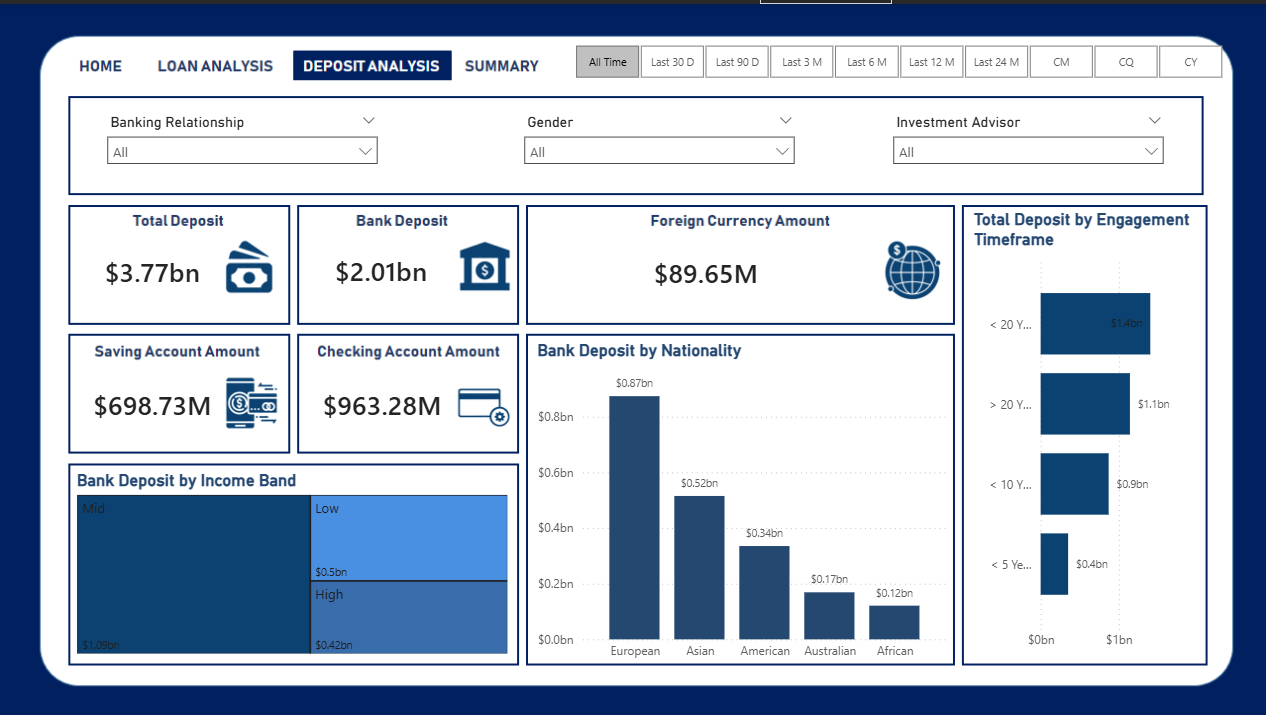

The page's visual inventory and layout, read from the dashboard file:
{"tool":"powerbi","page":{"name":"Deposit Analysis","canvas":[1280,720],"ordinal":2},"visuals":[{"type":"card","fields":{"Values":["DAX Measures.Total Deposit"]},"box":[72.7,226.3,161.8,90.3],"z":0},{"type":"card","fields":{"Values":["DAX Measures.Bank Deposit"]},"box":[299,226.3,172.4,89.1],"z":1000},{"type":"card","fields":{"Values":["DAX Measures.Savings Account"]},"box":[72.7,360,161.8,89.1],"z":2000},{"type":"card","fields":{"Values":["DAX Measures.Checking Accounts"]},"box":[300.2,360,171.2,89.1],"z":3000},{"type":"slicer","fields":{"Values":["Banking Relationship.Banking Relationship"]},"box":[98.5,105.2,292.9,75.7],"z":4000},{"type":"slicer","fields":{"Values":["Gender.Gender"]},"box":[518.9,105.2,292.9,75.7],"z":5000},{"type":"slicer","fields":{"Values":["Investment Advisor.Investment Advisor"]},"box":[891.3,105.2,292.9,75.7],"z":6000},{"type":"card","fields":{"Values":["DAX Measures.Foreign Currency Account"]},"box":[537.1,227.5,349.4,89.1],"z":7000},{"type":"treemap","fields":{"Group":["Clients - Banking.Income Band"],"Values":["DAX Measures.Bank Deposit"]},"box":[72.7,470.2,444.4,190],"z":8000},{"type":"columnChart","fields":{"Category":["Clients - Banking.Nationality"],"Y":["DAX Measures.Bank Deposit"]},"box":[537.1,338.9,423.3,331.9],"z":9000},{"type":"clusteredBarChart","fields":{"Category":["Clients - Banking.Engagement Timeframe"],"Y":["DAX Measures.Total Deposit"]},"box":[978,207.6,234.5,452.6],"z":10000},{"type":"slicer","fields":{"Values":["Period.Name"]},"box":[555.2,34.6,702.1,46.6],"z":11000},{"type":"actionButton","box":[72.8,44.2,58.5,31],"z":12000},{"type":"actionButton","box":[160,44.2,119.4,31],"z":13000},{"type":"actionButton","box":[471.6,44.2,83.6,31],"z":14000}]}

Visuals, with their boxes in screenshot pixels (x1, y1, x2, y2), scaled from the page's 1280x720 canvas onto the 1266x715 screenshot:
card - DAX Measures.Total Deposit: box(72, 225, 232, 314)
card - DAX Measures.Bank Deposit: box(296, 225, 466, 313)
card - DAX Measures.Savings Account: box(72, 358, 232, 446)
card - DAX Measures.Checking Accounts: box(297, 358, 466, 446)
slicer - Banking Relationship.Banking Relationship: box(97, 104, 387, 180)
slicer - Gender.Gender: box(513, 104, 803, 180)
slicer - Investment Advisor.Investment Advisor: box(882, 104, 1171, 180)
card - DAX Measures.Foreign Currency Account: box(531, 226, 877, 314)
treemap - Clients - Banking.Income Band x DAX Measures.Bank Deposit: box(72, 467, 511, 656)
columnChart - Clients - Banking.Nationality x DAX Measures.Bank Deposit: box(531, 337, 950, 666)
clusteredBarChart - Clients - Banking.Engagement Timeframe x DAX Measures.Total Deposit: box(967, 206, 1199, 656)
slicer - Period.Name: box(549, 34, 1244, 81)
actionButton: box(72, 44, 130, 75)
actionButton: box(158, 44, 276, 75)
actionButton: box(466, 44, 549, 75)
